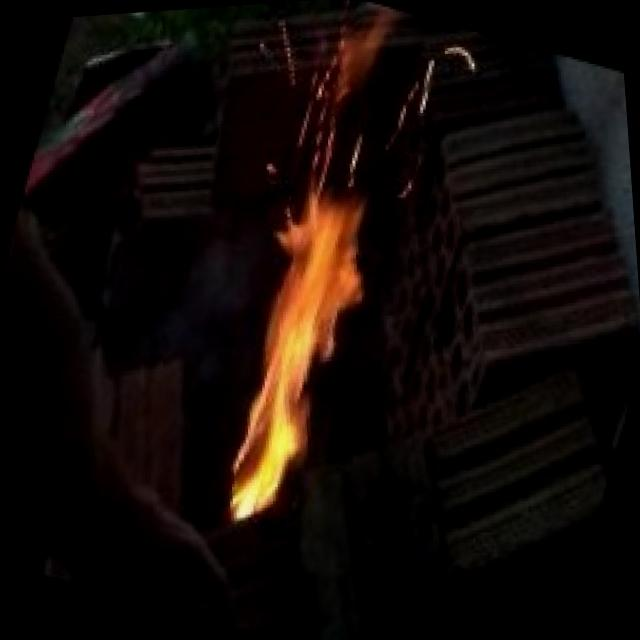fire: (128, 42, 494, 584)
